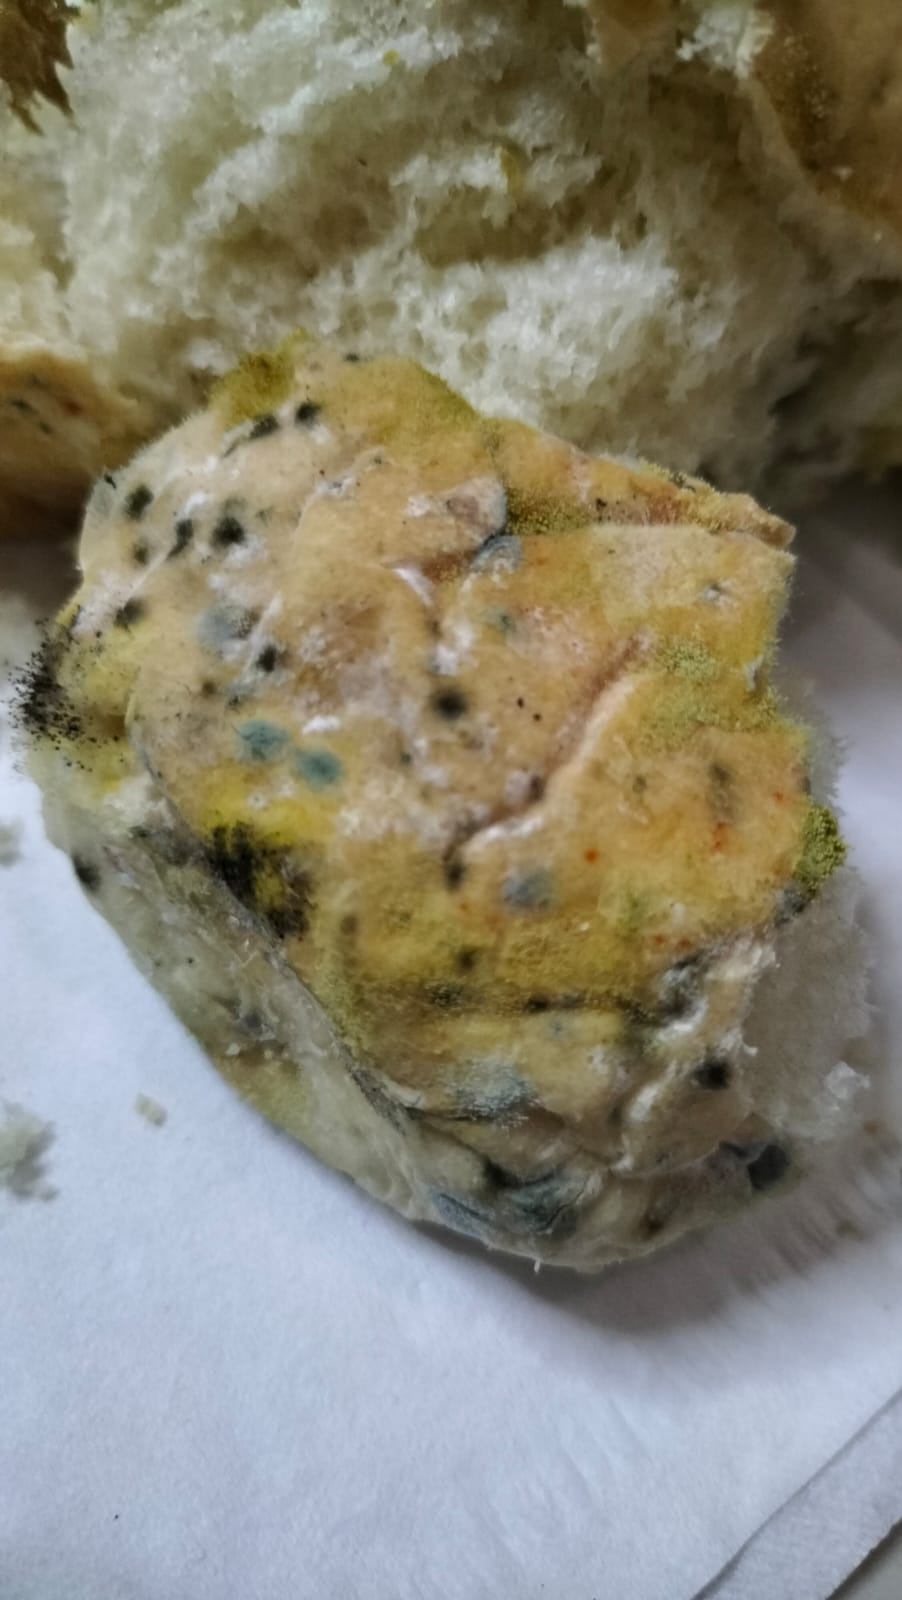mold_bread: (156, 816, 328, 956), (14, 610, 118, 781), (417, 471, 535, 593), (432, 1154, 576, 1253), (443, 1051, 545, 1134), (235, 719, 358, 788), (201, 597, 294, 685), (721, 1129, 812, 1200), (229, 396, 322, 445), (495, 860, 563, 918), (417, 678, 481, 732), (62, 842, 114, 901), (691, 1044, 743, 1097), (113, 480, 170, 521), (209, 512, 252, 558), (123, 541, 158, 577)
